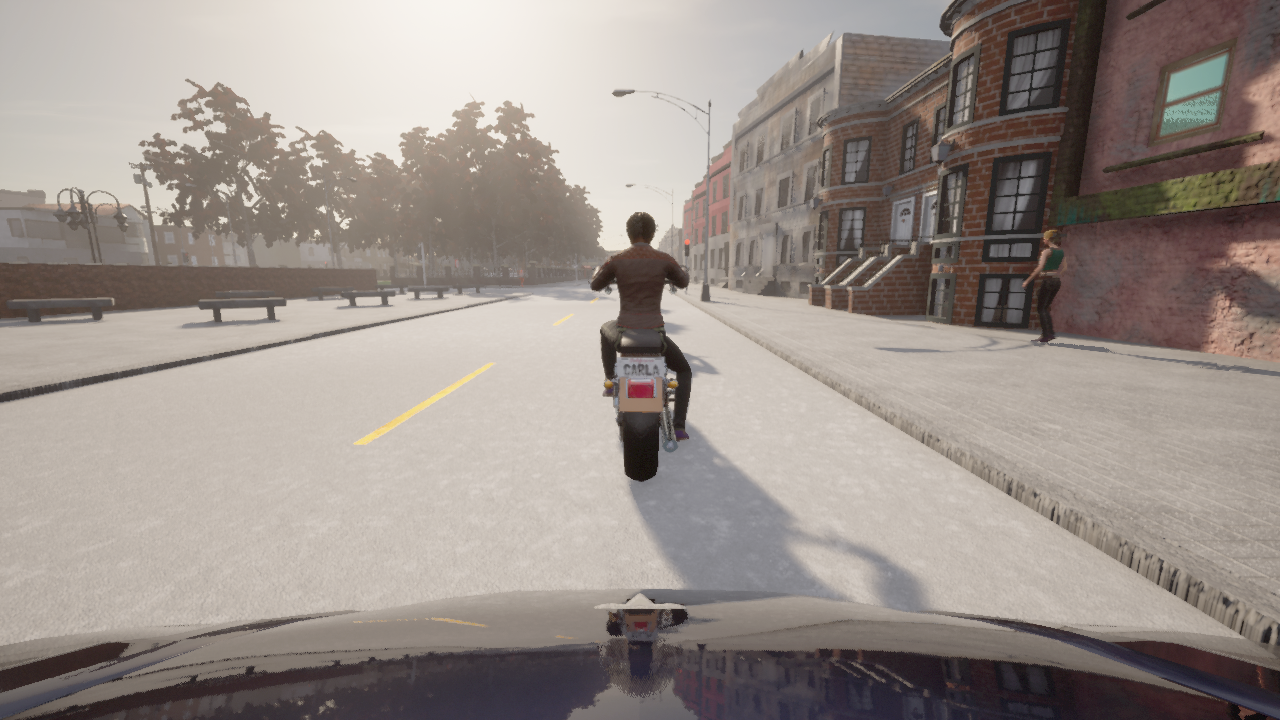cyclist: (0, 588, 1279, 719), (592, 265, 689, 480), (586, 273, 592, 287)
pedestrian: (1022, 229, 1067, 342), (518, 266, 526, 288)
